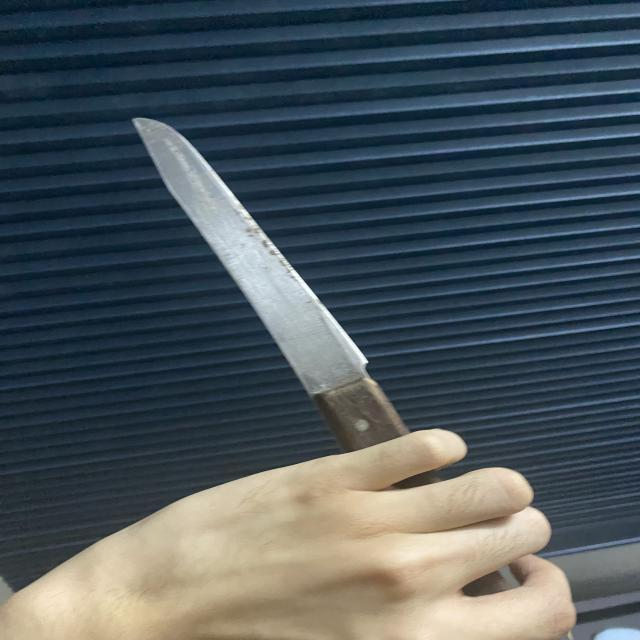faca: (103, 96, 546, 639)
